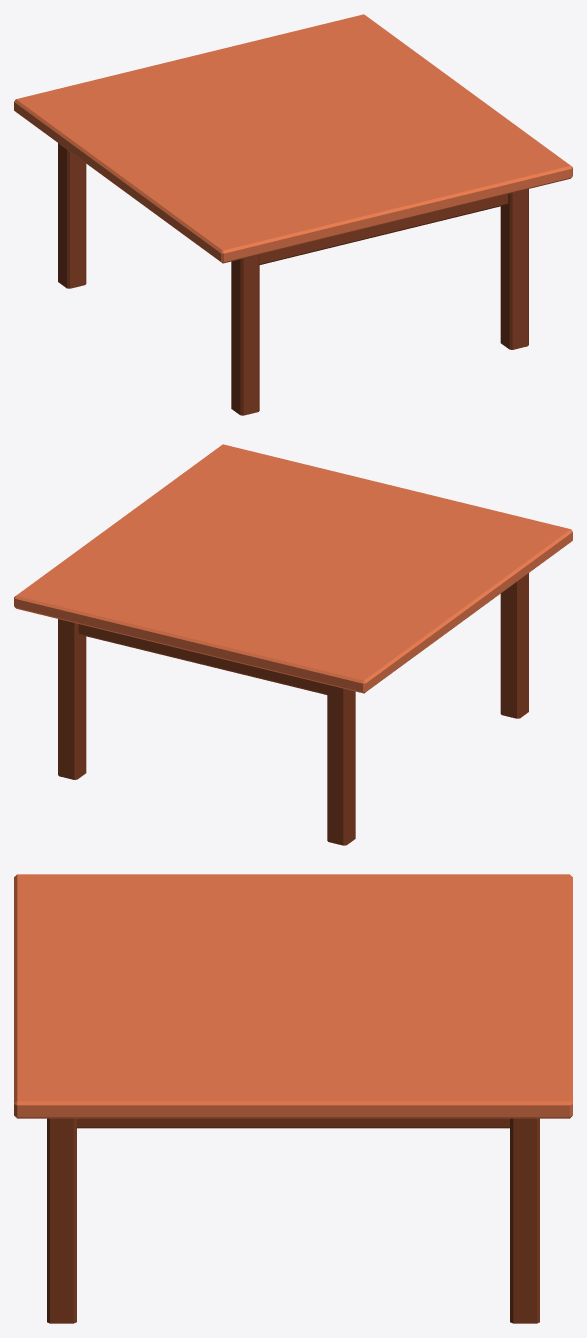
Rendered from Mesa.fbx.
3 renders of one model, top to bottom at view 1: azimuth 30°, elevation 25°; view 2: azimuth 150°, elevation 25°; view 3: azimuth 270°, elevation 25°, orthographic. The views are drawn at different scales.
Visible parts, largest first — view 1: Mesa; view 2: Mesa; view 3: Mesa.
Part boxes in pixels (left/top/right/bottom): Mesa: left=14, top=14, right=572, bottom=415; Mesa: left=14, top=444, right=572, bottom=845; Mesa: left=14, top=874, right=572, bottom=1323.
Bounding box in the file's own units: 170 × 83.5 × 175.
